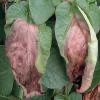Potato leaf late blight: (4, 3, 53, 99), (55, 0, 99, 95)
